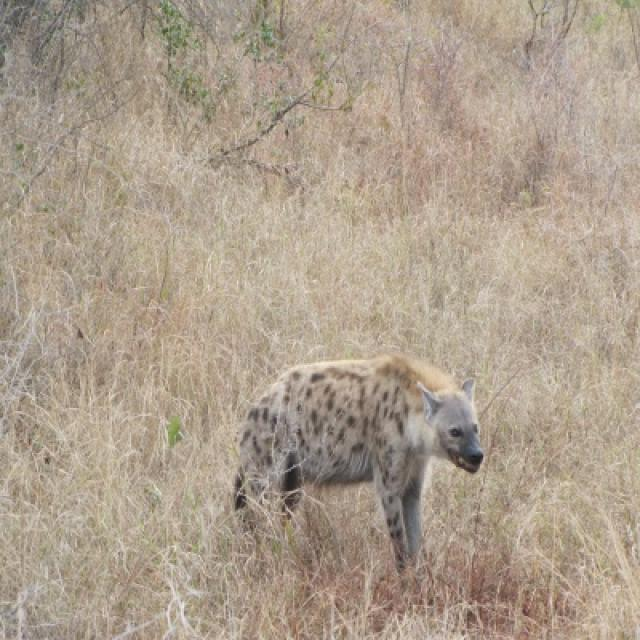hyena: (235, 355, 482, 570)
